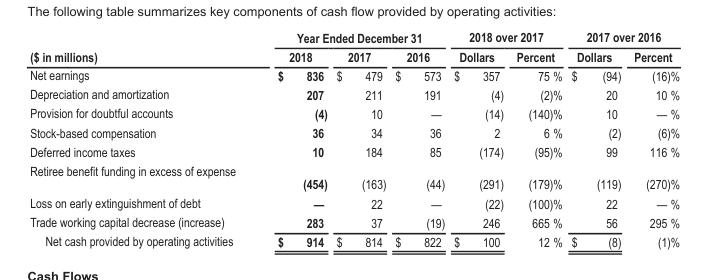table: (29, 28, 679, 248)
table column: (29, 28, 256, 248), (256, 28, 331, 248), (448, 28, 509, 248), (566, 28, 626, 248), (389, 28, 448, 248), (331, 28, 389, 248), (509, 28, 566, 248), (626, 28, 679, 248)
table column header: (29, 28, 679, 65)
table row: (29, 161, 679, 192), (29, 141, 679, 161), (29, 192, 679, 212), (29, 46, 679, 65), (29, 65, 679, 84), (29, 84, 679, 103), (29, 103, 679, 122), (29, 122, 679, 141), (29, 212, 679, 231), (29, 28, 679, 46), (29, 231, 679, 248)
table spanning cell: (29, 28, 256, 65), (256, 28, 448, 46), (448, 28, 566, 46), (566, 28, 679, 46)
